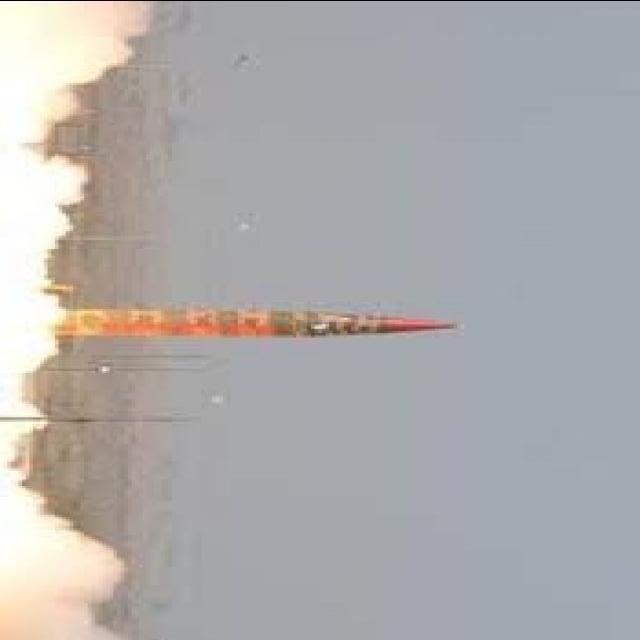missile: (49, 302, 458, 364)
